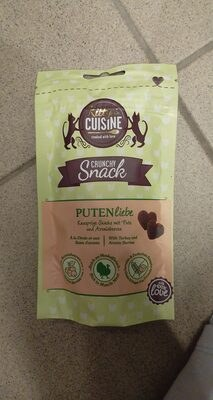Crunchy snack: (11, 20, 202, 380)
